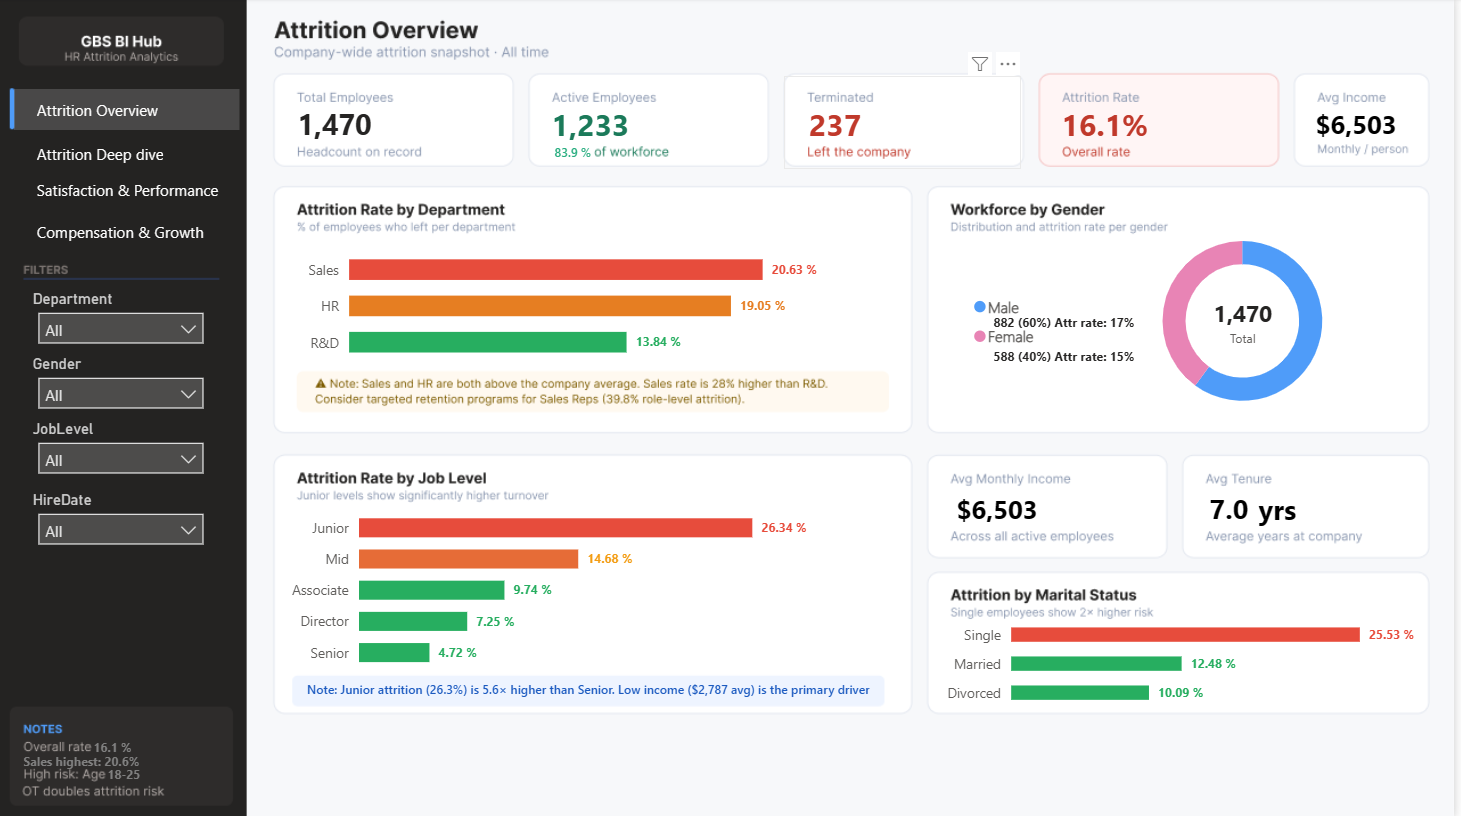

What the dashboard file says about the page in this screenshot:
{"tool":"powerbi","page":{"name":"Attrition Overview","canvas":[1280,720],"ordinal":0},"visuals":[{"type":"cardVisual","fields":{"Data":["Attrition Overview.Total Employees"]},"box":[246.4,68.2,208.2,81.8],"z":0},{"type":"cardVisual","fields":{"Data":["Attrition Overview.Active Employees"]},"box":[470,68.2,208.2,81.8],"z":1000},{"type":"cardVisual","fields":{"Data":["Attrition Overview.Active Employee Rate"]},"box":[472,94,208.2,81.8],"z":2000},{"type":"cardVisual","fields":{"Data":["Attrition Overview.Terminated Employees"]},"box":[691.8,68.2,208.2,81.8],"z":3000},{"type":"cardVisual","fields":{"Data":["Attrition Overview.Attrition Rate %"]},"box":[917.3,68.2,208.2,81.8],"z":4000},{"type":"cardVisual","fields":{"Data":["Attrition Overview.Avg Monthly Income"]},"box":[1140.9,68.2,110,81.8],"z":5000},{"type":"clusteredBarChart","fields":{"Category":["Dim_Employee.Department"],"Y":["Attrition Overview.Attrition Rate"]},"box":[266.4,203.6,462.7,127.3],"z":6000},{"type":"donutChart","fields":{"Category":["Dim_Employee.Gender"],"Y":["Attrition Overview.Total Employees"]},"box":[858.2,195.5,410,175.5],"z":7000},{"type":"cardVisual","fields":{"Data":["Attrition Overview.Total Employees"]},"box":[944.5,230,300,107.3],"z":8000},{"type":"cardVisual","fields":{"Data":["Attrition Overview.DisplayMale"]},"box":[858.2,225.5,196.4,115.5],"z":9000},{"type":"cardVisual","fields":{"Data":["Attrition Overview.DisplayFemale"]},"box":[858.2,255.5,196.4,115.5],"z":10000},{"type":"cardVisual","fields":{"Data":["Attrition Overview.Avg Monthly Income"]},"box":[825.5,406.4,110,81.8],"z":11000},{"type":"cardVisual","fields":{"Data":["Attrition Overview.Avg Tenure Years","Sum(Attrition Overview.Column)"]},"box":[1018.2,406.4,172,81.8],"z":12000},{"type":"clusteredBarChart","fields":{"Y":["Attrition Overview.Attrition Rate"],"Category":["Dim_JobLevel.JobLevelName"]},"box":[246.4,432.7,470,167.3],"z":13000},{"type":"cardVisual","fields":{"Data":["Attrition Overview.AttritionLevel"]},"box":[272.7,558.2,508.2,95.5],"z":14000},{"type":"clusteredBarChart","fields":{"Y":["Attrition Overview.Attrition Rate"],"Category":["Dim_Employee.MaritalStatus"]},"box":[825.5,529.1,425.5,103.6],"z":15000},{"type":"actionButton","box":[15.5,80,198.2,36.4],"z":16000},{"type":"actionButton","box":[15.5,118.2,198.2,36.4],"z":17000},{"type":"actionButton","box":[15.5,150,198.2,36.4],"z":18000},{"type":"actionButton","box":[15.5,187.3,198.2,36.4],"z":19000},{"type":"slicer","title":"Department","fields":{"Values":["Dim_Employee.Department"]},"box":[27.3,256.4,164.5,49.1],"z":20000},{"type":"slicer","title":"Gender","fields":{"Values":["Fact_Attrition.OverTime"]},"box":[27.3,313.6,164.5,49.1],"z":21000},{"type":"slicer","title":"JobLevel","fields":{"Values":["Dim_Employee.BusinessTravel"]},"box":[27.3,370.9,164.5,49.1],"z":22000},{"type":"slicer","title":"HireDate","fields":{"Values":["Dim_Employee.MaritalStatus"]},"box":[27.3,432.7,164.5,49.1],"z":23000},{"type":"cardVisual","fields":{"Data":["Attrition Overview.Over all Rate"]},"box":[68,641,80,31],"z":24000},{"type":"cardVisual","fields":{"Data":["Attrition Overview.highest Dep Attr"]},"box":[6,653,166.4,30.9],"z":25000},{"type":"cardVisual","fields":{"Data":["Attrition Overview.HighAge Risk"]},"box":[80,665,192.7,30.9],"z":26000}]}

Visuals, with their boxes on the page's 1280x720 design canvas (x1, y1, x2, y2). These are canvas units, not pixel positions in the 1461x816 screenshot, which may show the page scaled, cropped or inside an application window:
cardVisual - Attrition Overview.Total Employees: [246, 68, 455, 150]
cardVisual - Attrition Overview.Active Employees: [470, 68, 678, 150]
cardVisual - Attrition Overview.Active Employee Rate: [472, 94, 680, 176]
cardVisual - Attrition Overview.Terminated Employees: [692, 68, 900, 150]
cardVisual - Attrition Overview.Attrition Rate %: [917, 68, 1126, 150]
cardVisual - Attrition Overview.Avg Monthly Income: [1141, 68, 1251, 150]
clusteredBarChart - Dim_Employee.Department x Attrition Overview.Attrition Rate: [266, 204, 729, 331]
donutChart - Dim_Employee.Gender x Attrition Overview.Total Employees: [858, 196, 1268, 371]
cardVisual - Attrition Overview.Total Employees: [944, 230, 1244, 337]
cardVisual - Attrition Overview.DisplayMale: [858, 226, 1055, 341]
cardVisual - Attrition Overview.DisplayFemale: [858, 256, 1055, 371]
cardVisual - Attrition Overview.Avg Monthly Income: [826, 406, 936, 488]
cardVisual - Attrition Overview.Avg Tenure Years x Sum(Attrition Overview.Column): [1018, 406, 1190, 488]
clusteredBarChart - Attrition Overview.Attrition Rate x Dim_JobLevel.JobLevelName: [246, 433, 716, 600]
cardVisual - Attrition Overview.AttritionLevel: [273, 558, 781, 654]
clusteredBarChart - Attrition Overview.Attrition Rate x Dim_Employee.MaritalStatus: [826, 529, 1251, 633]
actionButton: [16, 80, 214, 116]
actionButton: [16, 118, 214, 155]
actionButton: [16, 150, 214, 186]
actionButton: [16, 187, 214, 224]
"Department" slicer: [27, 256, 192, 306]
"Gender" slicer: [27, 314, 192, 363]
"JobLevel" slicer: [27, 371, 192, 420]
"HireDate" slicer: [27, 433, 192, 482]
cardVisual - Attrition Overview.Over all Rate: [68, 641, 148, 672]
cardVisual - Attrition Overview.highest Dep Attr: [6, 653, 172, 684]
cardVisual - Attrition Overview.HighAge Risk: [80, 665, 273, 696]
